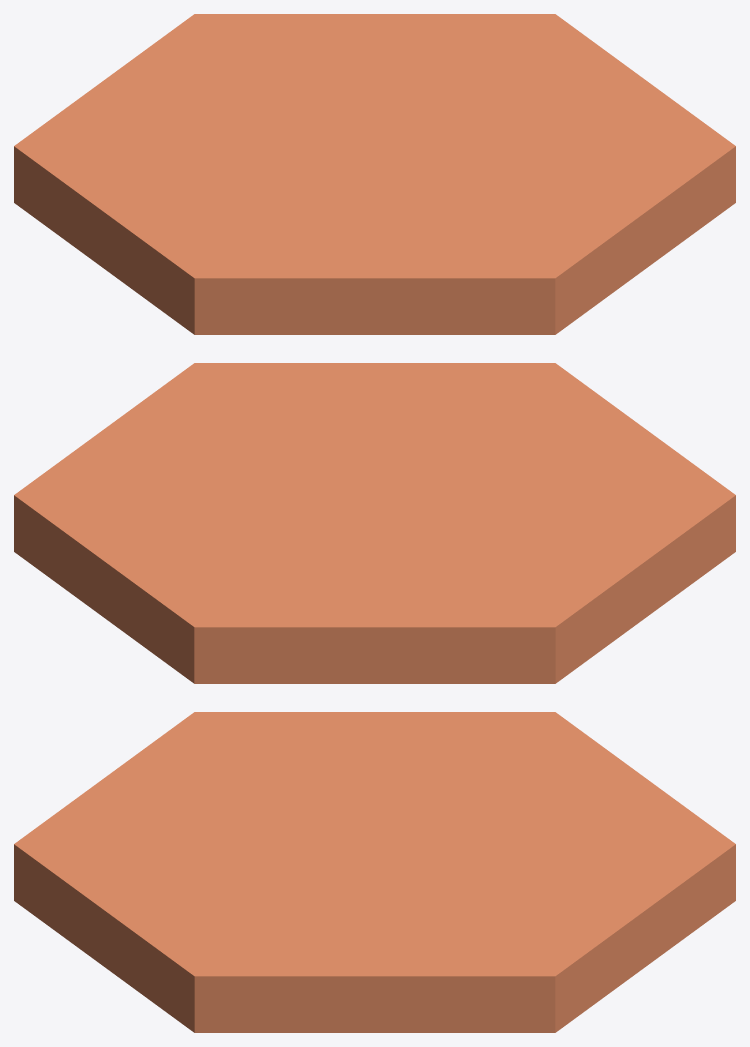
Rendered from dirt.fbx.
3 renders of one model, top to bottom at view 1: azimuth 30°, elevation 25°; view 2: azimuth 150°, elevation 25°; view 3: azimuth 270°, elevation 25°, orthographic.
Parts seen in each view (by area): view 1: dirt; view 2: dirt; view 3: dirt.
Boxes of the visible parts, x1,y1,x2,y2 form: dirt: (14,14,735,334); dirt: (14,363,735,683); dirt: (14,712,735,1032).
Size of the model in its own units: 100 by 10 by 115.
Materials: 1 (1 with a texture image).
